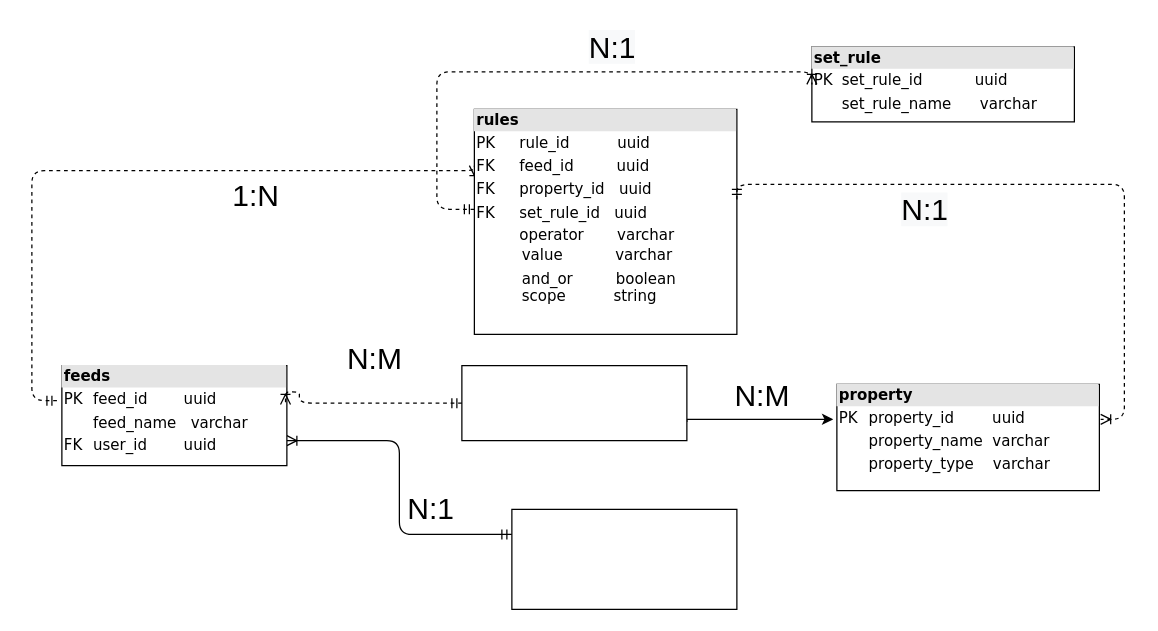
The diagram is 1158 pixels wide and 631 high, and some of its shapes have lost their labels. Here are the shapes that lost their labels. From the top down, the centre of each, then its label:
point 574,402: feed_property FK feed_id uuid FK property_id uuid
point 624,558: users PK user_id uuid mail varchar password varchar
